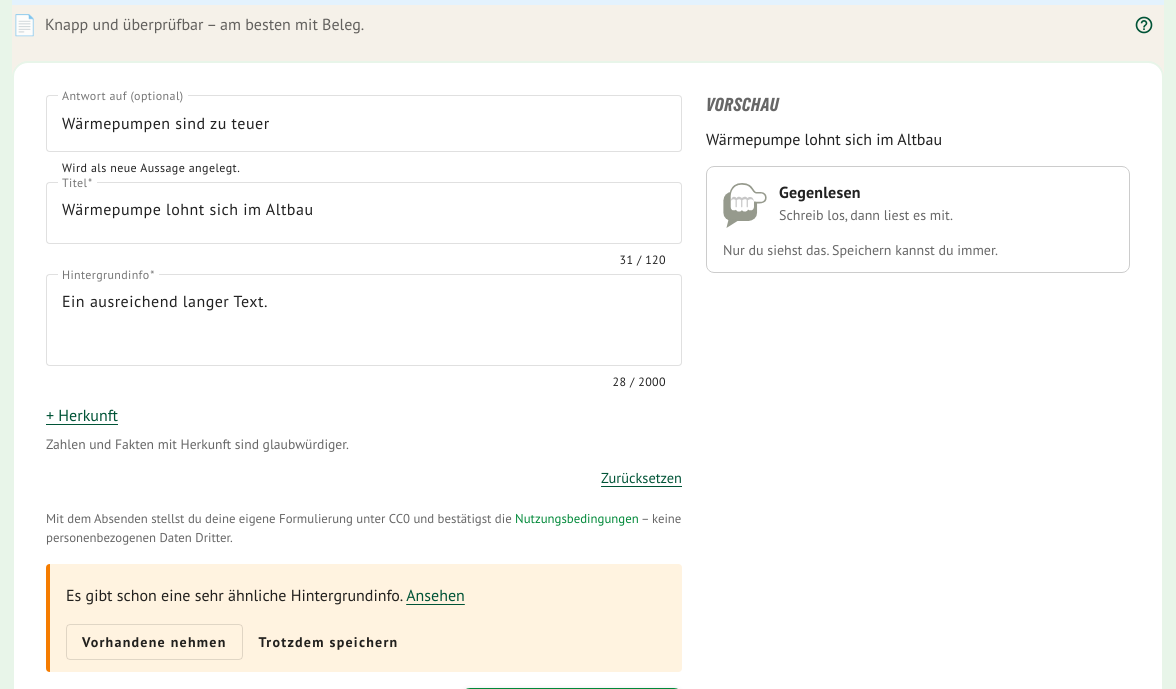
AddGenerictextComponent › Dublette › Nehmen mit zu kurzer Aussage: gesperrt, keine Anfrage
Replace the text in the text box labelled "Antwort auf (optional)" with "Windrad": (364, 124) [62, 112, 666, 136]
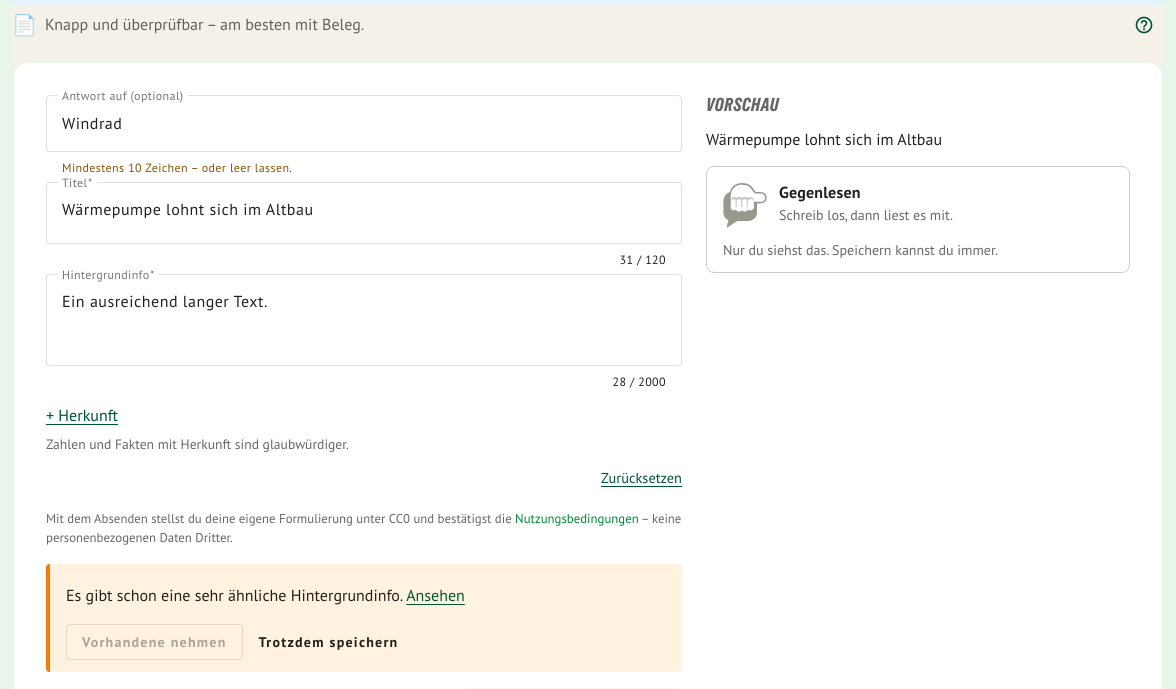
Expected: the button with class "dublette-nehmen" is disabled, [66, 624, 243, 660]
